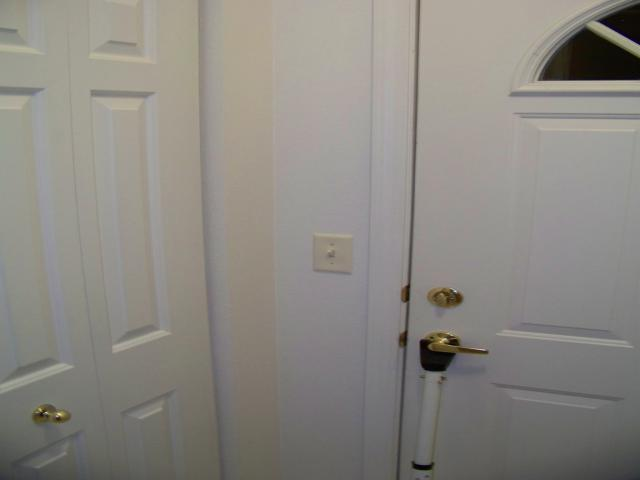Door-handle: (423, 330, 490, 356), (31, 404, 73, 425)
